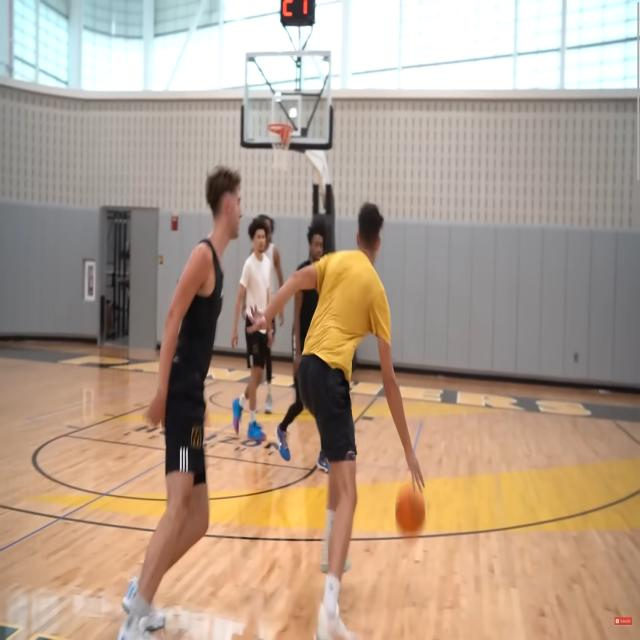Basketball: (395, 484, 426, 534)
Basketball Rim: (267, 124, 293, 171)
Player: (246, 194, 425, 640), (114, 166, 245, 640), (278, 222, 332, 444), (231, 218, 271, 443)
